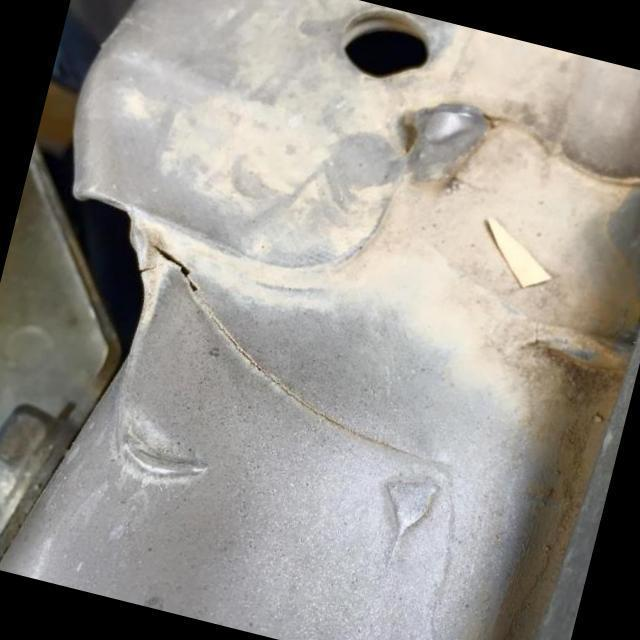defect: (148, 241, 467, 471), (140, 263, 160, 275)
